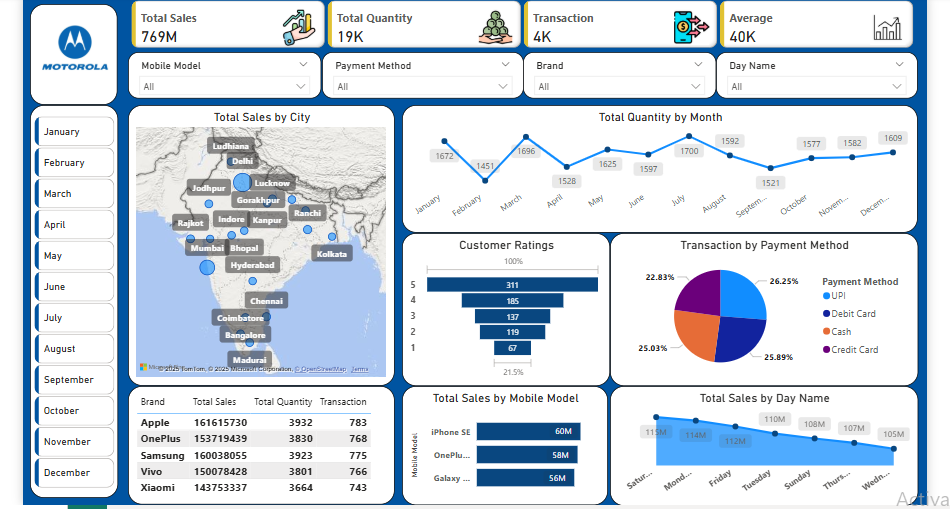

What the dashboard file says about the page in this screenshot:
{"tool":"powerbi","page":{"name":"Page 1","canvas":[1280,720],"ordinal":0},"visuals":[{"type":"shape","box":[10.1,10.1,124.3,142.8],"z":0},{"type":"image","box":[9.9,9.9,124.7,123.3],"z":1000},{"type":"shape","box":[9.9,153.1,124.7,557],"z":2000},{"type":"advancedSlicerVisual","fields":{"Values":["Sales_data.Date.Variation.Date Hierarchy.Month"]},"box":[11.3,164.4,123.3,545.7],"z":3000},{"type":"cardVisual","fields":{"Data":["Sales_data.Total Sales","Sales_data.Total Quantity","Sales_data.Transaction","Sales_data.Average"]},"box":[149.5,0,1118.7,77.3],"z":4000},{"type":"map","fields":{"Category":["Sales_data.City"],"Size":["Sales_data.Total Sales"]},"box":[149.5,152.9,378,398.1],"z":5000},{"type":"lineChart","fields":{"Category":["Sales_data.Date.Variation.Date Hierarchy.Month","Sales_data.Date.Variation.Date Hierarchy.Day"],"Y":["Sales_data.Total Quantity"]},"box":[537.2,153.1,731.3,181.4],"z":6000},{"type":"clusteredBarChart","fields":{"Category":["Sales_data.Mobile Model"],"Y":["Sales_data.Total Sales"]},"box":[537.2,551.3,292,168.7],"z":7000},{"type":"pieChart","fields":{"Y":["Sales_data.Transaction"],"Category":["Sales_data.Payment Method"]},"box":[831.5,334.3,436.7,216.7],"z":8000},{"type":"funnel","title":"Customer Ratings","fields":{"Category":["Sales_data.Customer Ratings"],"Y":["CountNonNull(Sales_data.Customer Name)"]},"box":[537.2,334.5,294.8,216.9],"z":9000},{"type":"areaChart","fields":{"Category":["Sales_data.Day Name"],"Y":["Sales_data.Total Sales"]},"box":[831.5,551,436.7,169.7],"z":10000},{"type":"tableEx","fields":{"Values":["Sales_data.Brand","Sales_data.Total Sales","Sales_data.Total Quantity","Sales_data.Transaction"]},"box":[149.5,551,378,168],"z":11000},{"type":"slicer","fields":{"Values":["Sales_data.Mobile Model"]},"box":[149.5,77.3,273.8,65.5],"z":12000},{"type":"slicer","fields":{"Values":["Sales_data.Payment Method"]},"box":[423.3,77.3,285.6,65.5],"z":13000},{"type":"slicer","fields":{"Values":["Sales_data.Brand"]},"box":[708.9,77.3,273.8,65.5],"z":14000},{"type":"slicer","fields":{"Values":["Sales_data.Day Name"]},"box":[982.7,77.3,285.6,65.5],"z":15000}]}

Visuals, with their boxes in screenshot pixels (x1, y1, x2, y2):
shape: rect(29, 5, 116, 104)
image: rect(29, 4, 116, 91)
shape: rect(29, 104, 116, 493)
advancedSlicerVisual - Sales_data.Date.Variation.Date Hierarchy.Month: rect(30, 112, 116, 493)
cardVisual - Sales_data.Total Sales x Sales_data.Total Quantity: rect(127, 0, 908, 51)
map - Sales_data.City x Sales_data.Total Sales: rect(127, 104, 390, 382)
lineChart - Sales_data.Date.Variation.Date Hierarchy.Month x Sales_data.Date.Variation.Date Hierarchy.Day: rect(397, 104, 908, 231)
clusteredBarChart - Sales_data.Mobile Model x Sales_data.Total Sales: rect(397, 382, 601, 500)
pieChart - Sales_data.Transaction x Sales_data.Payment Method: rect(603, 231, 908, 382)
"Customer Ratings" funnel: rect(397, 231, 603, 382)
areaChart - Sales_data.Day Name x Sales_data.Total Sales: rect(603, 382, 908, 501)
tableEx - Sales_data.Brand x Sales_data.Total Sales: rect(127, 382, 390, 499)
slicer - Sales_data.Mobile Model: rect(127, 51, 318, 97)
slicer - Sales_data.Payment Method: rect(318, 51, 517, 97)
slicer - Sales_data.Brand: rect(517, 51, 708, 97)
slicer - Sales_data.Day Name: rect(708, 51, 908, 97)
